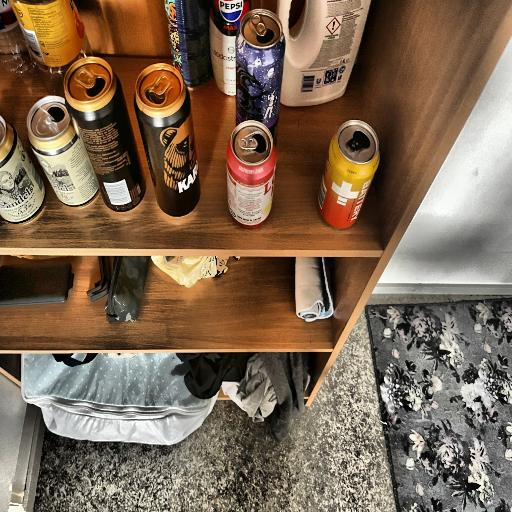karhu: (64, 46, 147, 214), (126, 61, 204, 222)
koff: (215, 109, 280, 237)
sandels: (32, 95, 101, 213), (0, 108, 43, 229)
